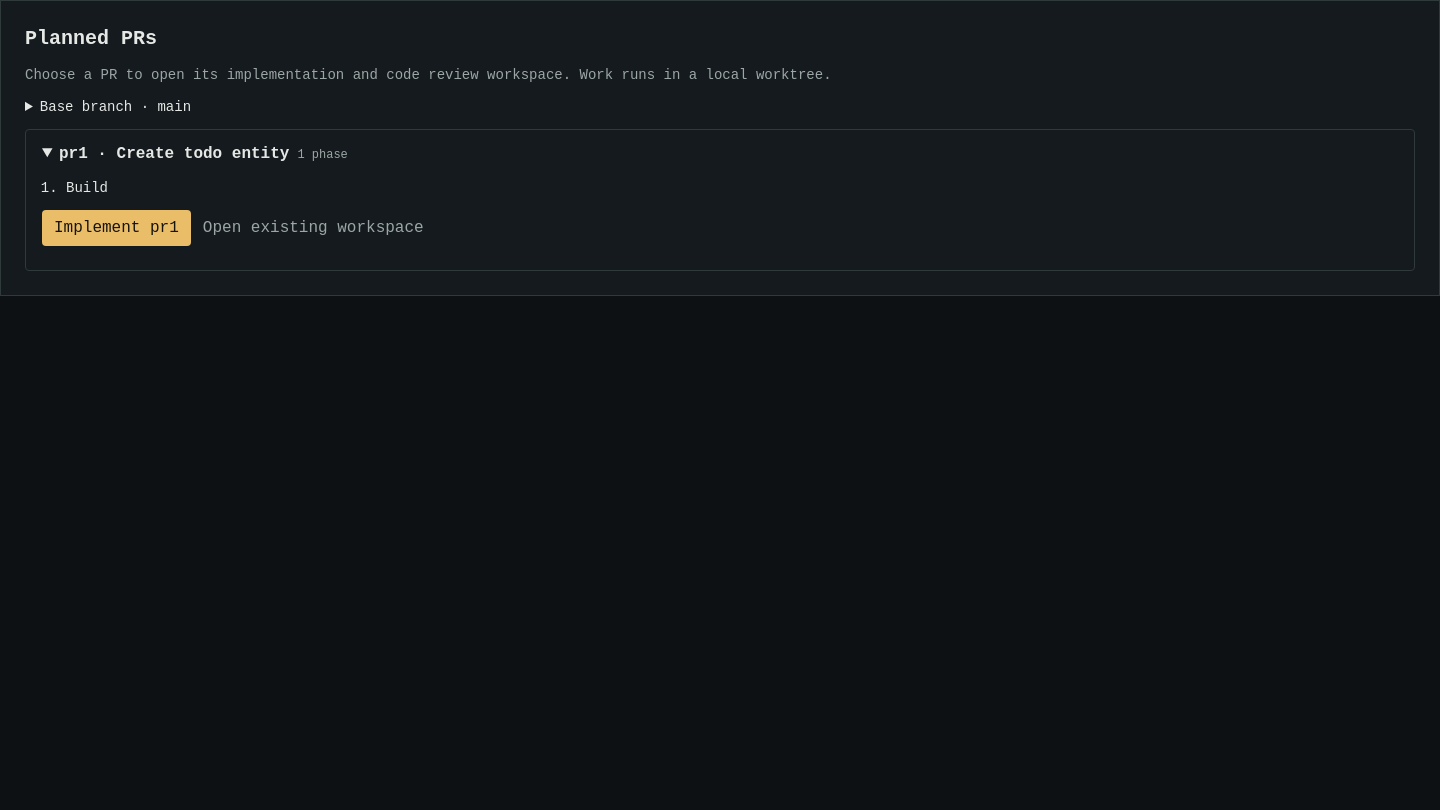
it: previews server naming before explicit confirmation and invalidates edited choices
Later steps or results of the test are not shown.
Click the button "Implement pr1" at {"x": 116, "y": 228}, box [42,210,191,246]
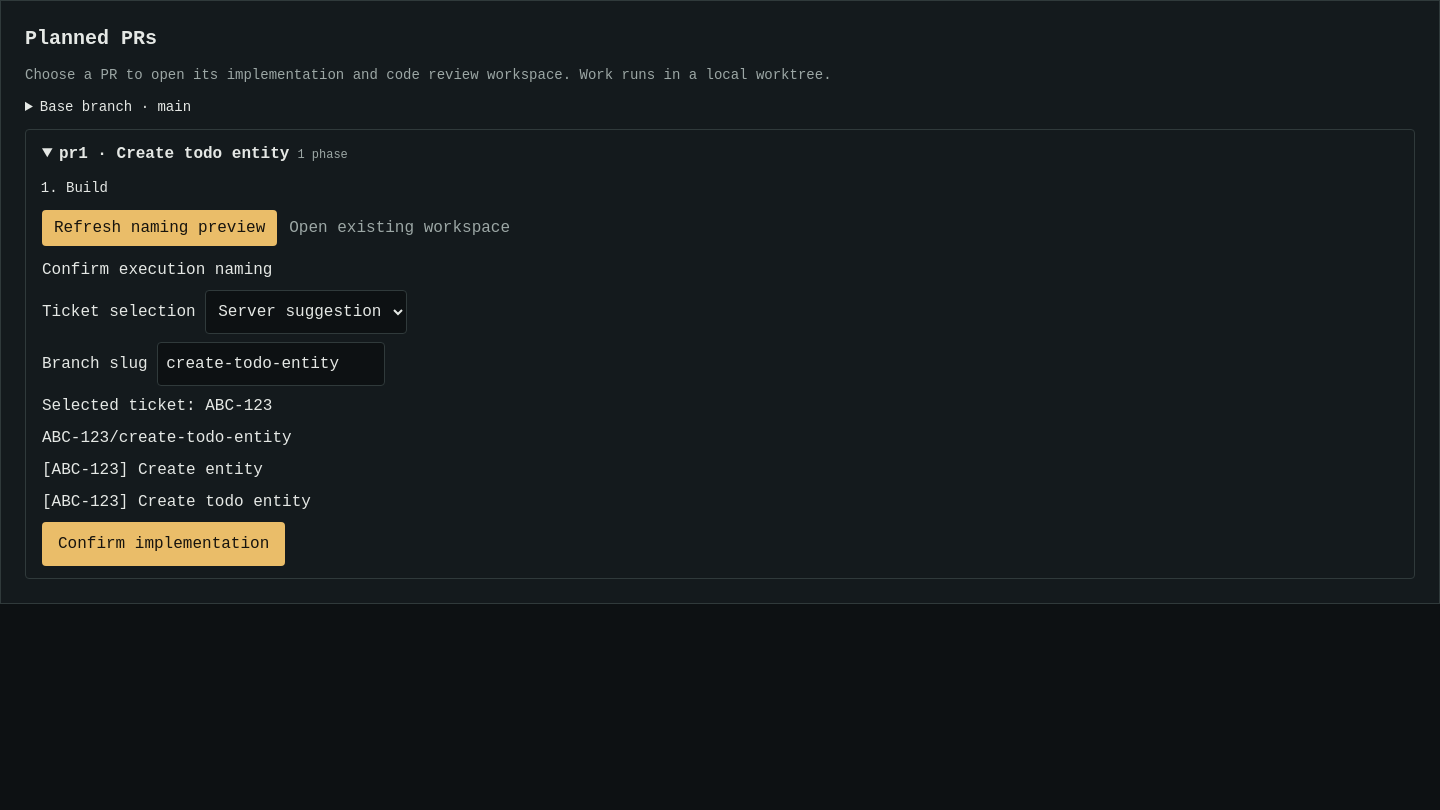
Check: the text "ABC-123/create-todo-entity" is shown, box [42,429,292,447]
Type "-edited" into the field labelled "Branch slug" at {"x": 271, "y": 364}, box [157,342,385,386]
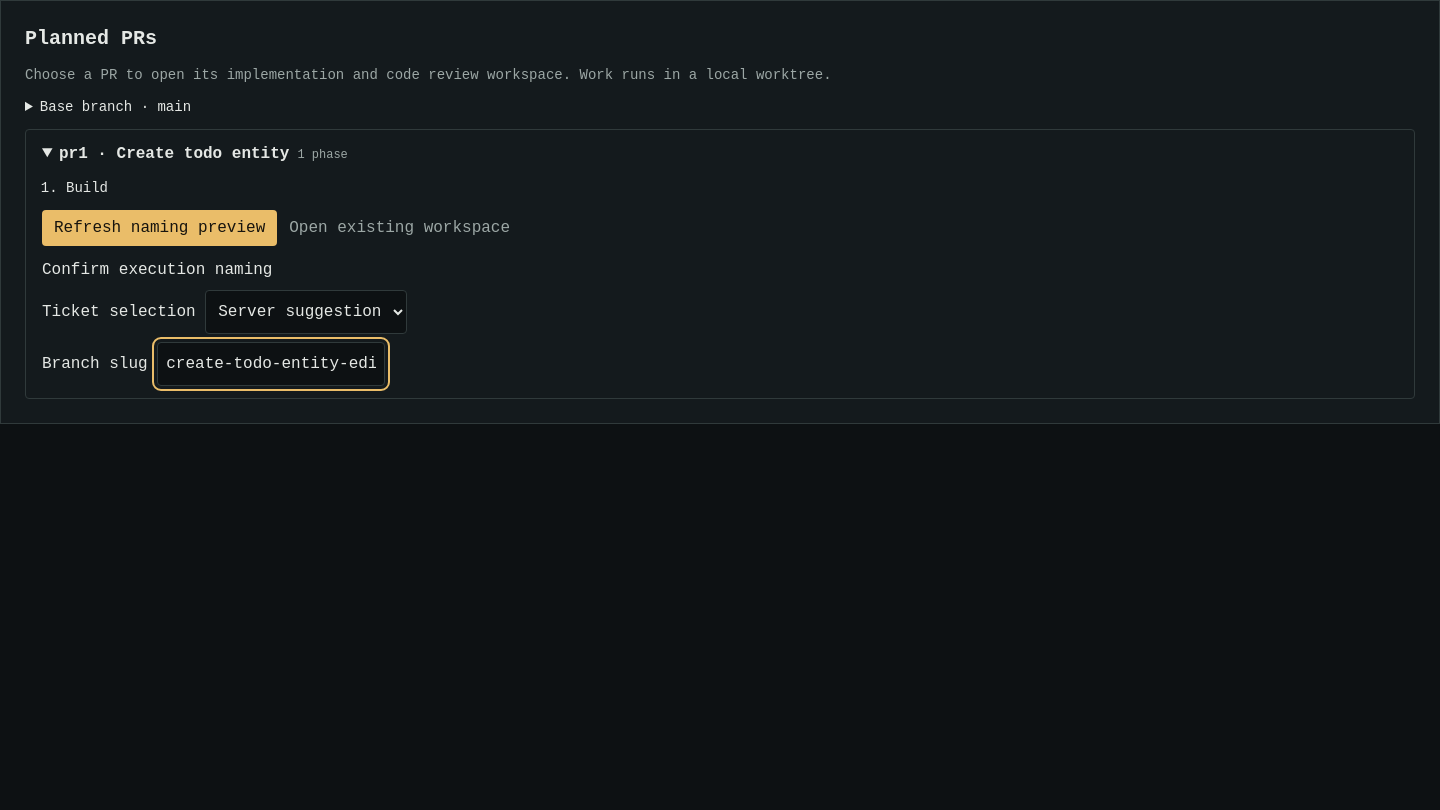
Check: the button "Confirm implementation" is gone
